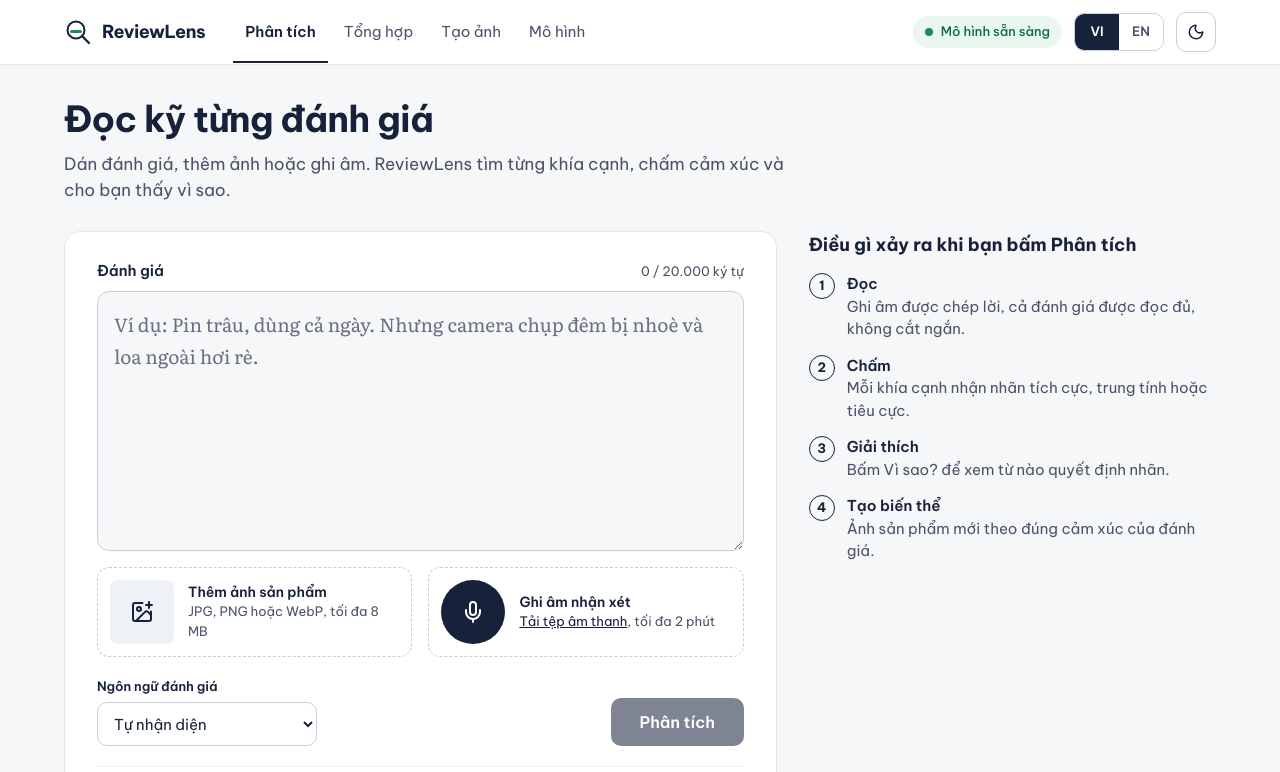
Test case: app › renders every page in Vietnamese with navigation
Expected: the heading "Đọc kỹ từng đánh giá" is shown, [64,96,433,142]
Click the link "Tổng hợp" at (378,31), box [344,22,413,41]
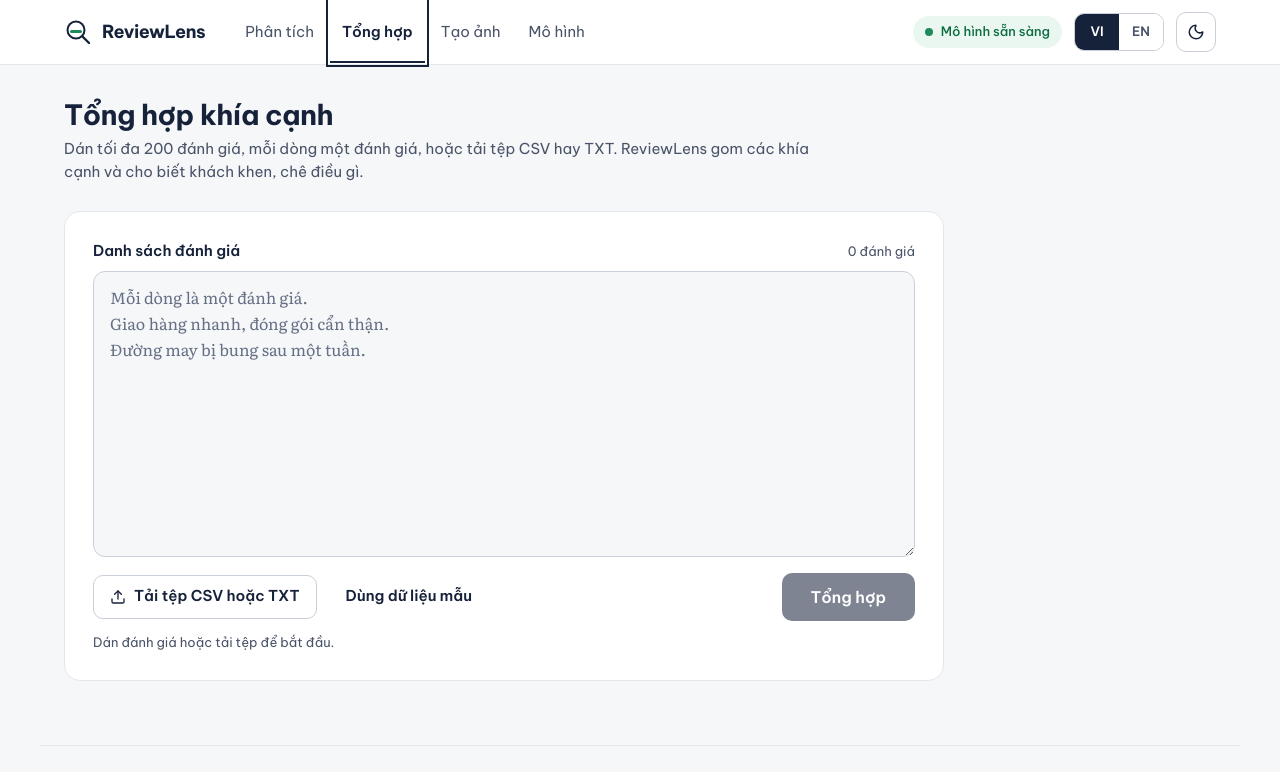
Expected: the heading "Tổng hợp khía cạnh" is shown, [64,97,333,132]
Click the link "Tạo ảnh" at (471,31), box [441,22,500,41]
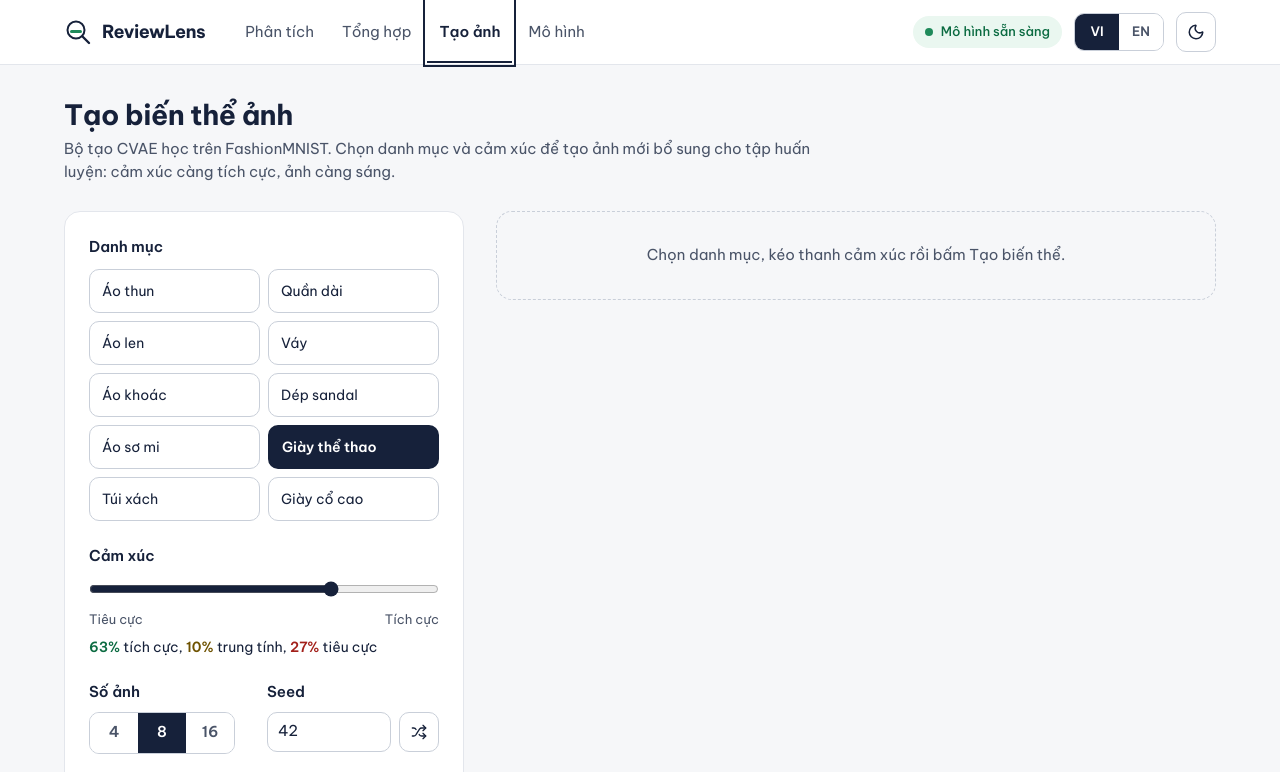
Expected: the heading "Tạo biến thể ảnh" is shown, [64,97,293,132]
Click the link "Mô hình" at (557,31), box [528,22,585,41]
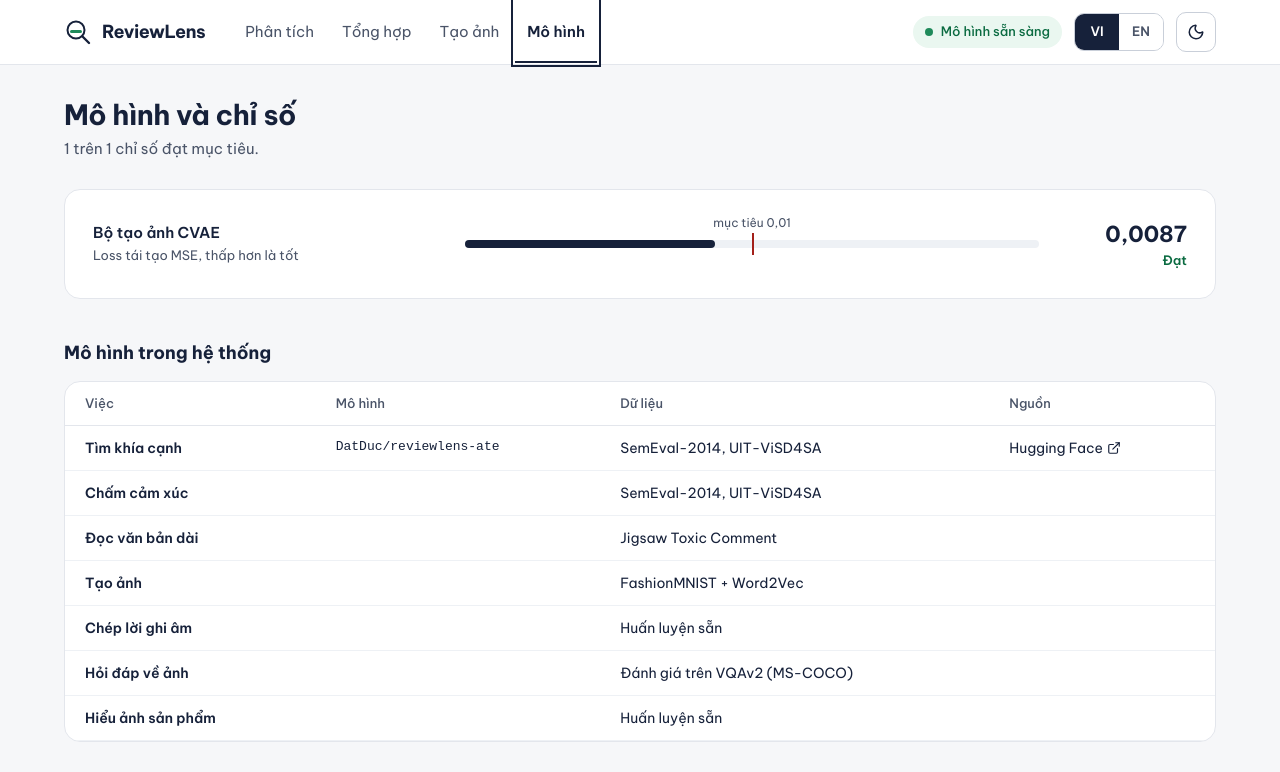
Expected: the text "0,0087" is shown, [1105,220,1187,248]
Expected: the text "Đạt" is shown, [1162,252,1187,268]
